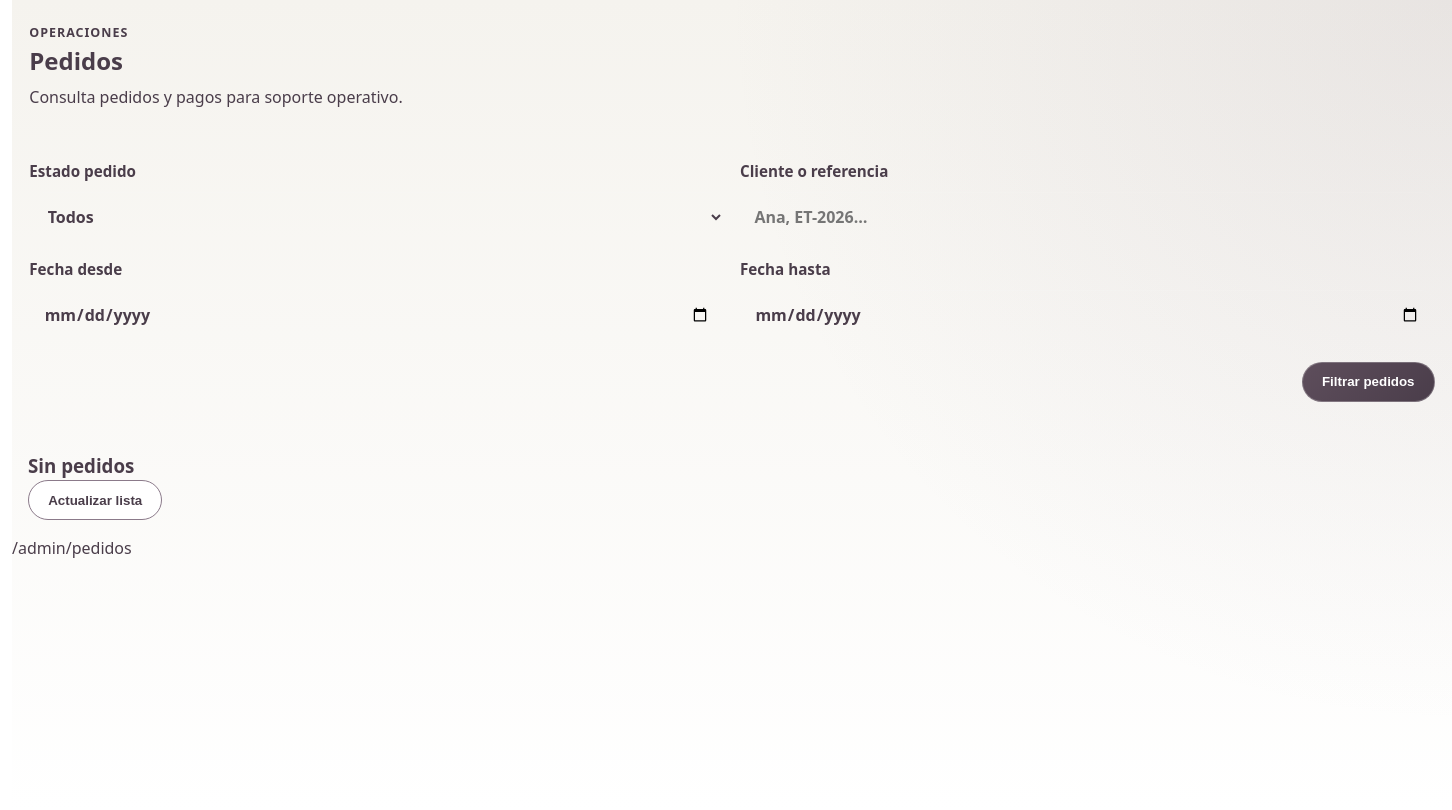
Test case: AdminOrdersPage › uses the single search box as an OR query for order references
Expected: the heading "Sin pedidos" is shown, [28, 453, 134, 478]
Type "ET-2026-A2F8F0" into the field labelled "Cliente o referencia" at (1087, 217), box [740, 192, 1435, 242]
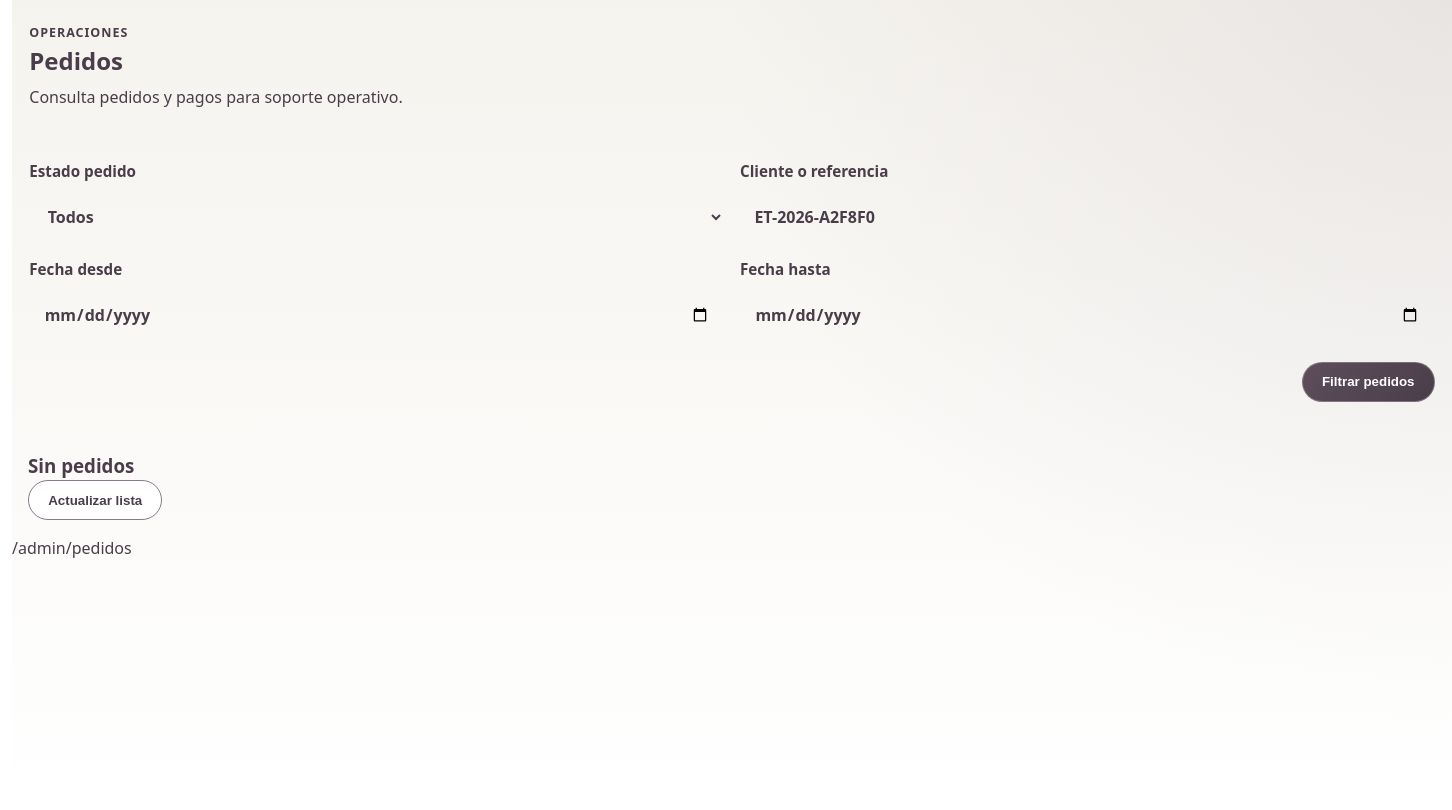
Click the button "Filtrar pedidos" at (1368, 382), box [1302, 362, 1435, 402]
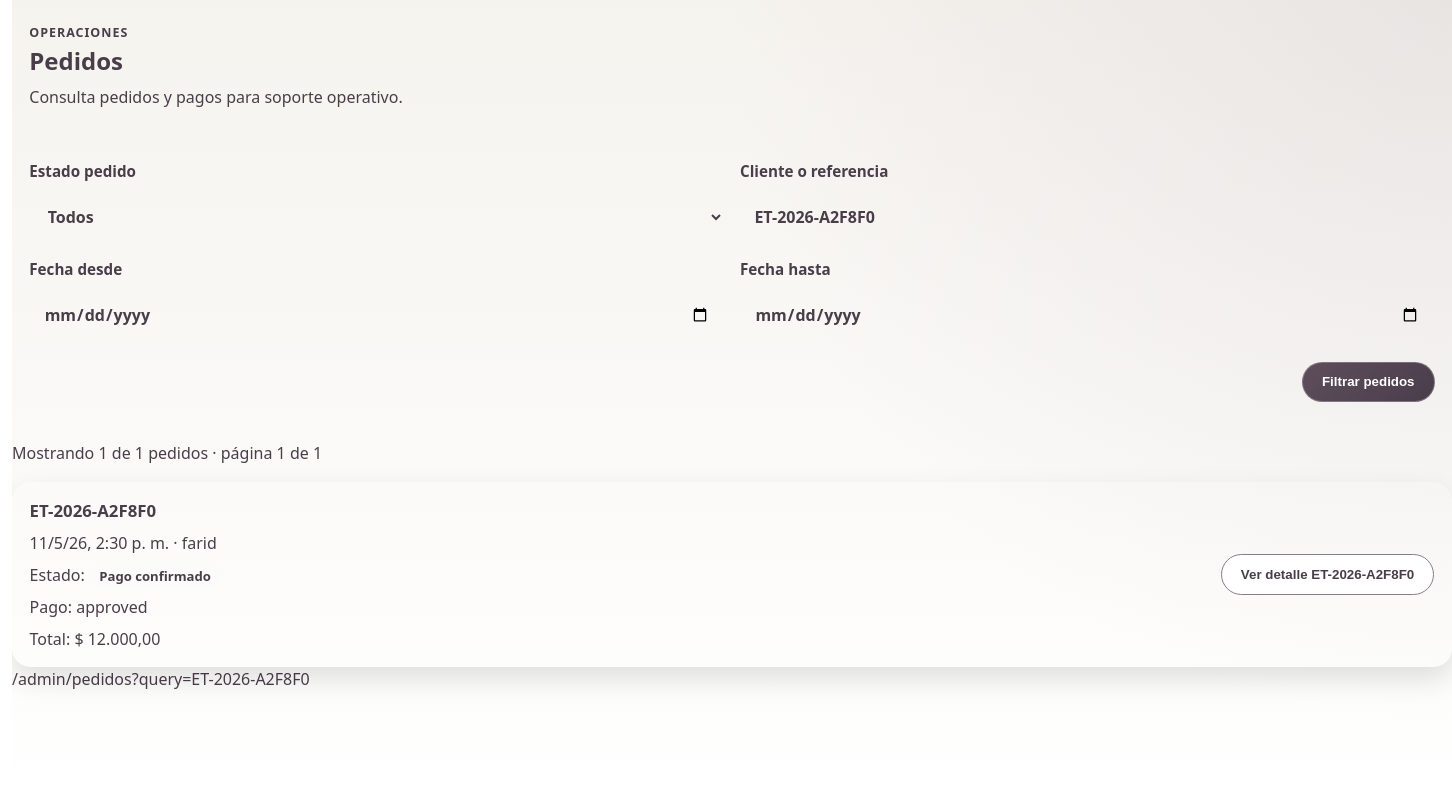
Result: the element named "Pedido ET-2026-A2F8F0" shows "farid" at [182, 532, 217, 554]
